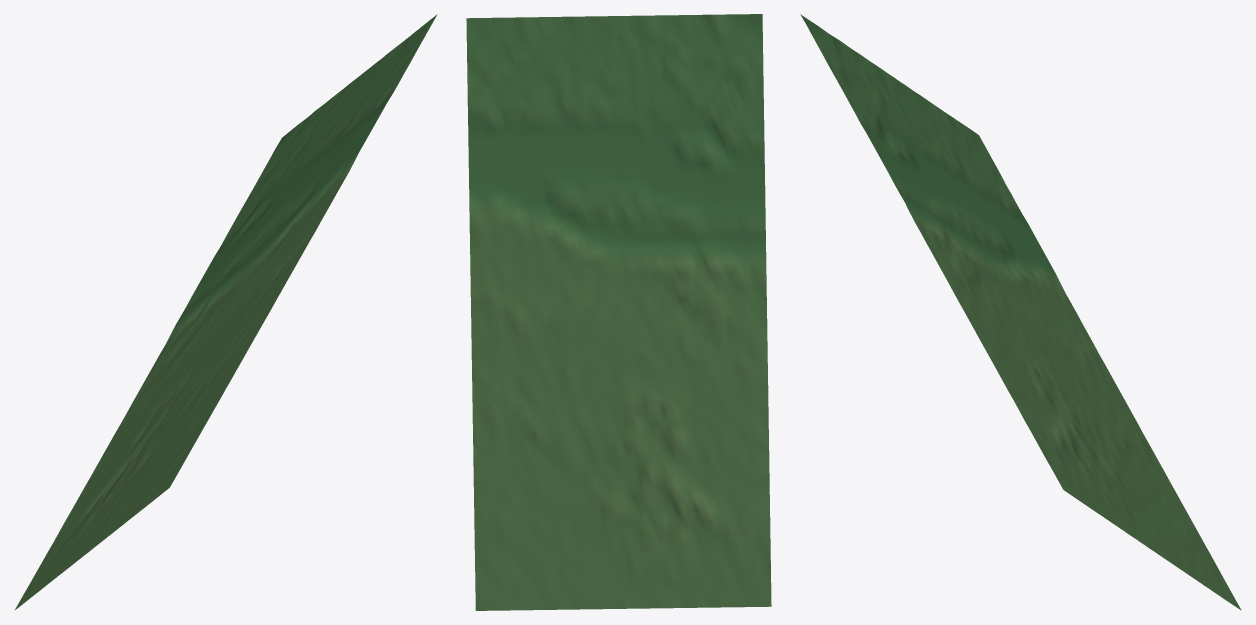
3 renders of one model, left to right at view 1: azimuth 30°, elevation 25°; view 2: azimuth 150°, elevation 25°; view 3: azimuth 270°, elevation 25°, orthographic. The views are drawn at different scales.
Bounding box in the file's own units: 9916 × 13244 × 9725.
